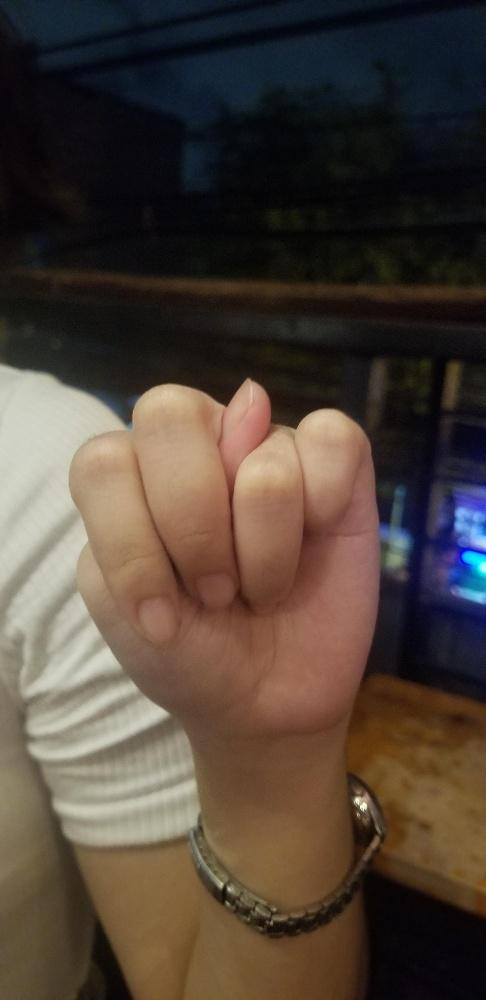n: (65, 374, 383, 724)
